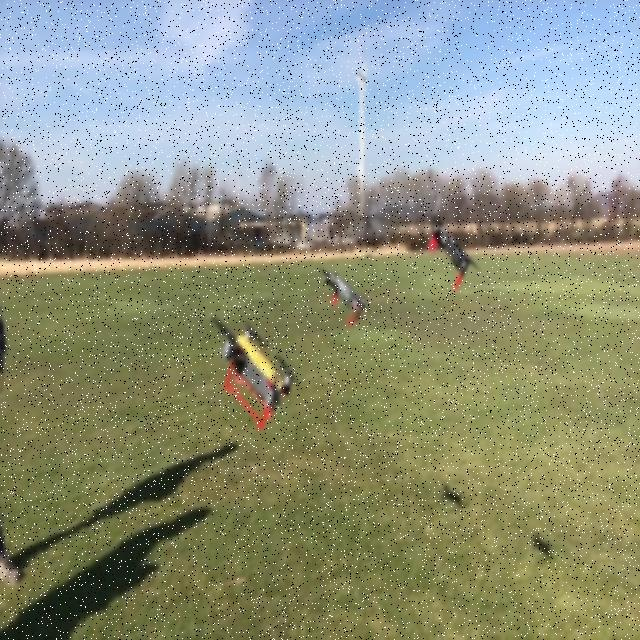UAV: (208, 312, 303, 430), (428, 216, 481, 292), (318, 266, 372, 327)
